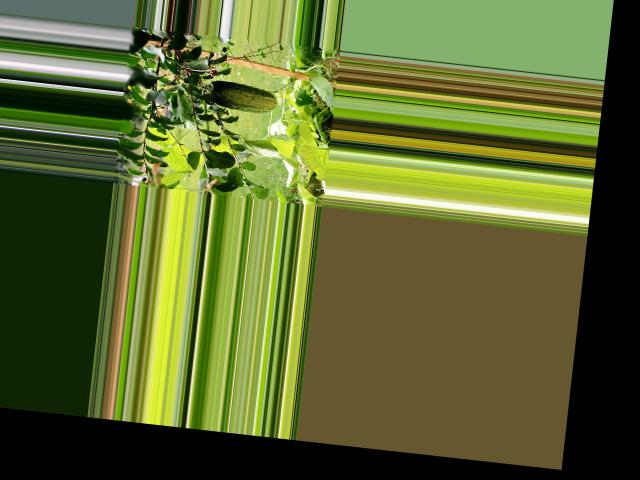cucumber: (200, 77, 278, 114)
